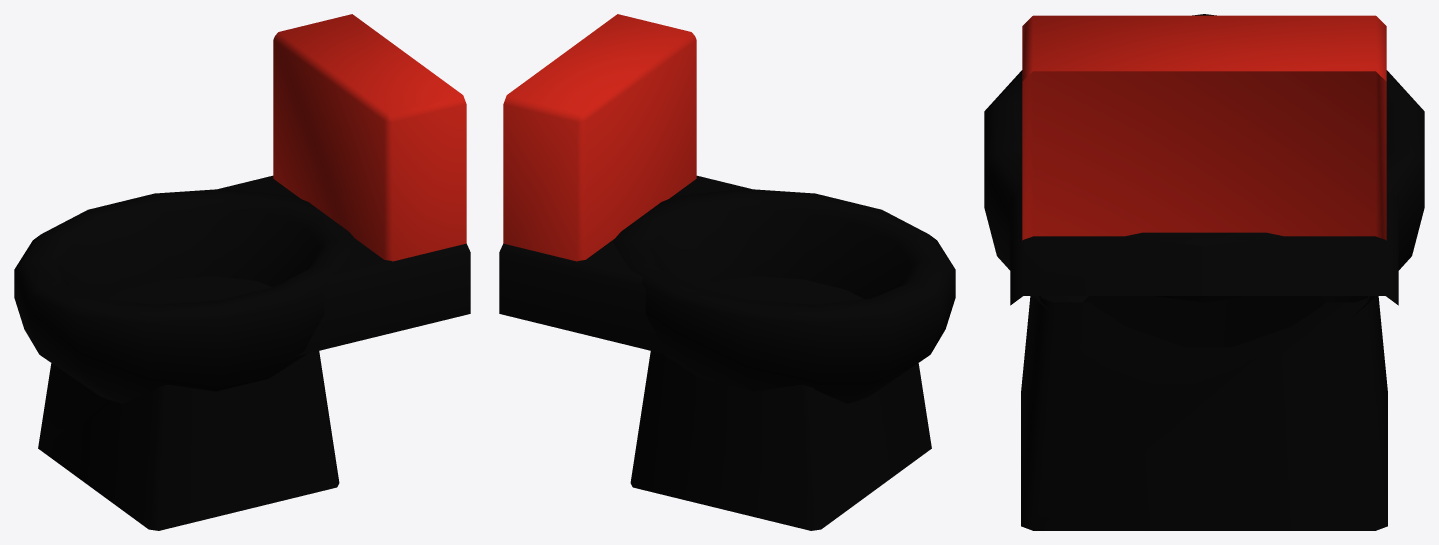
File: toilet2.FBX
The picture shows the model from 3 angles, left to right: view 1: azimuth 30°, elevation 25°; view 2: azimuth 150°, elevation 25°; view 3: azimuth 270°, elevation 25°; orthographic projection. The views are drawn at different scales.
Parts seen in each view (by area): view 1: Box1198; view 2: Box1198; view 3: Box1198.
Part boxes in pixels (left/top/right/bottom): Box1198: left=14, top=14, right=470, bottom=530; Box1198: left=499, top=14, right=955, bottom=530; Box1198: left=984, top=14, right=1424, bottom=530.
Size of the model in its own units: 2.03 by 1.84 by 1.33.
